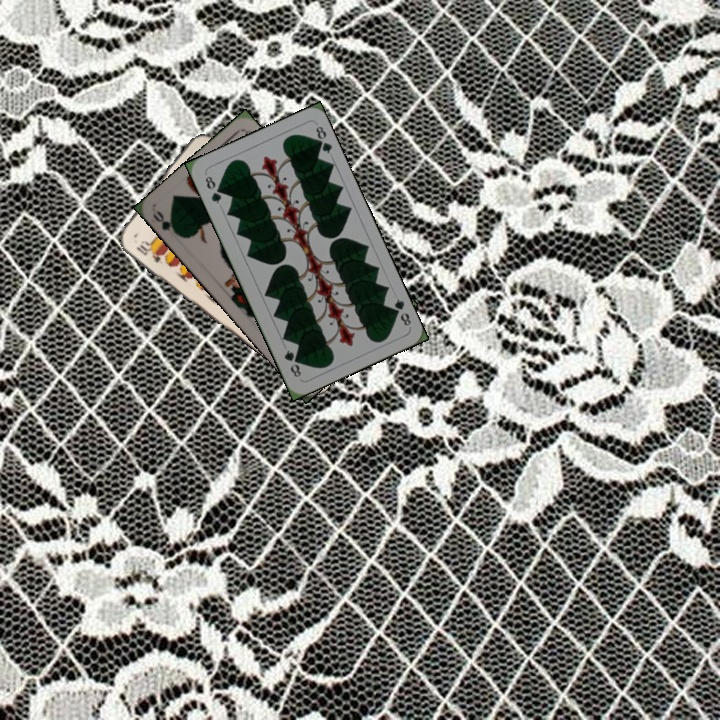E10: (132, 237, 164, 266)
G8: (387, 295, 414, 328), (201, 170, 224, 206)
GO: (149, 207, 184, 239)
